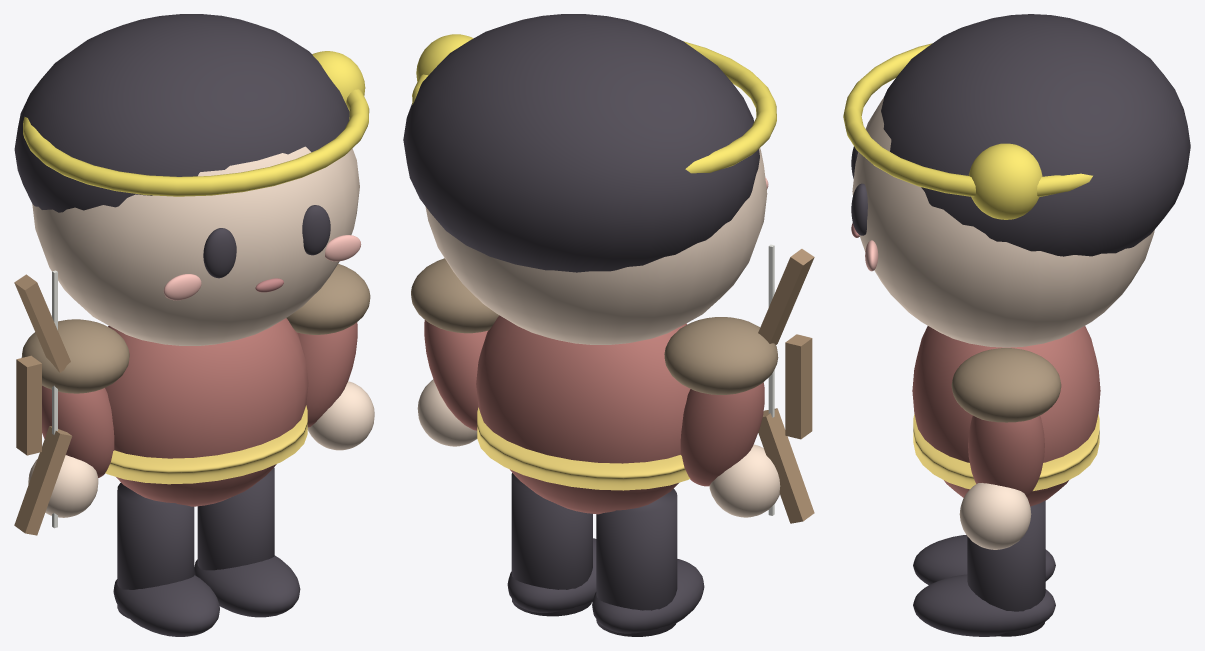
File: yt_sharpshooter.fbx
3 views of the same model, side by side, from view 1: azimuth 30°, elevation 25°; view 2: azimuth 150°, elevation 25°; view 3: azimuth 270°, elevation 25° (orthographic). The views are drawn at different scales.
Visible parts, largest first — view 1: hair, head_mesh, body, band, leg, leg.001, belt, pauldron.001, shoe, shoe.001, arm_mesh.001, arm_mesh (+12 smaller); view 2: hair, body, head_mesh, leg, leg.001, pauldron.001, arm_mesh.001, belt, arm_mesh, pauldron, band, hand_mesh.001 (+8 smaller); view 3: hair, head_mesh, body, pauldron, band, leg.001, shoe.001, arm_mesh, knot, hand_mesh, belt, shoe (+1 smaller).
Part boxes in pixels (x1,y1,x2,y2): hair: [14, 14, 349, 212]; head_mesh: [32, 146, 359, 345]; body: [105, 318, 308, 506]; band: [23, 89, 369, 196]; leg: [117, 483, 194, 618]; leg.001: [197, 467, 274, 570]; belt: [105, 405, 307, 484]; pauldron.001: [21, 319, 129, 393]; shoe: [113, 575, 219, 636]; shoe.001: [194, 555, 300, 617]; arm_mesh.001: [42, 385, 114, 478]; arm_mesh: [297, 322, 357, 427]; hair: [403, 14, 759, 272]; body: [476, 315, 690, 514]; head_mesh: [425, 148, 767, 344]; leg: [596, 488, 677, 636]; leg.001: [511, 473, 592, 616]; pauldron.001: [664, 317, 778, 394]; arm_mesh.001: [680, 382, 764, 486]; belt: [477, 407, 690, 490]; arm_mesh: [424, 320, 487, 430]; pauldron: [411, 258, 499, 333]; band: [412, 41, 776, 173]; hand_mesh.001: [709, 444, 780, 517]; hair: [881, 14, 1190, 256]; head_mesh: [852, 98, 1154, 347]; body: [912, 326, 1100, 506]; pauldron: [951, 348, 1061, 422]; band: [843, 43, 1092, 196]; leg.001: [967, 500, 1045, 636]; shoe.001: [913, 574, 1055, 636]; arm_mesh: [968, 415, 1044, 497]; knot: [968, 143, 1042, 219]; hand_mesh: [959, 483, 1031, 549]; belt: [913, 414, 1099, 490]; shoe: [913, 535, 1055, 584].
Size of the model in its own units: 0.7644 by 1.15 by 0.6318.
